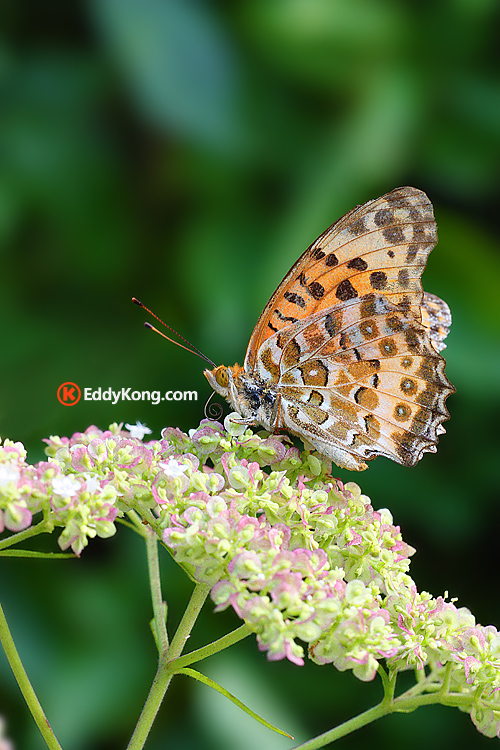Argyreus hyperbius: (126, 178, 453, 472)
butterfly: (128, 180, 455, 474)
